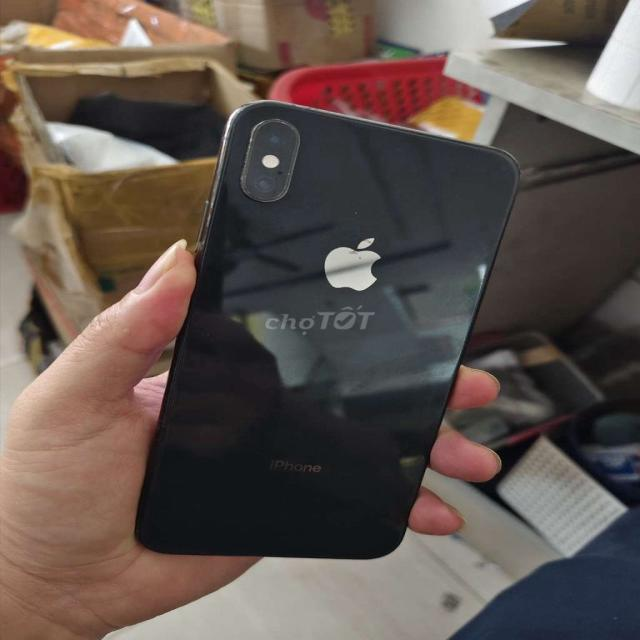scratch: (236, 123, 258, 199), (349, 231, 380, 264), (279, 168, 299, 184), (347, 204, 368, 219)
